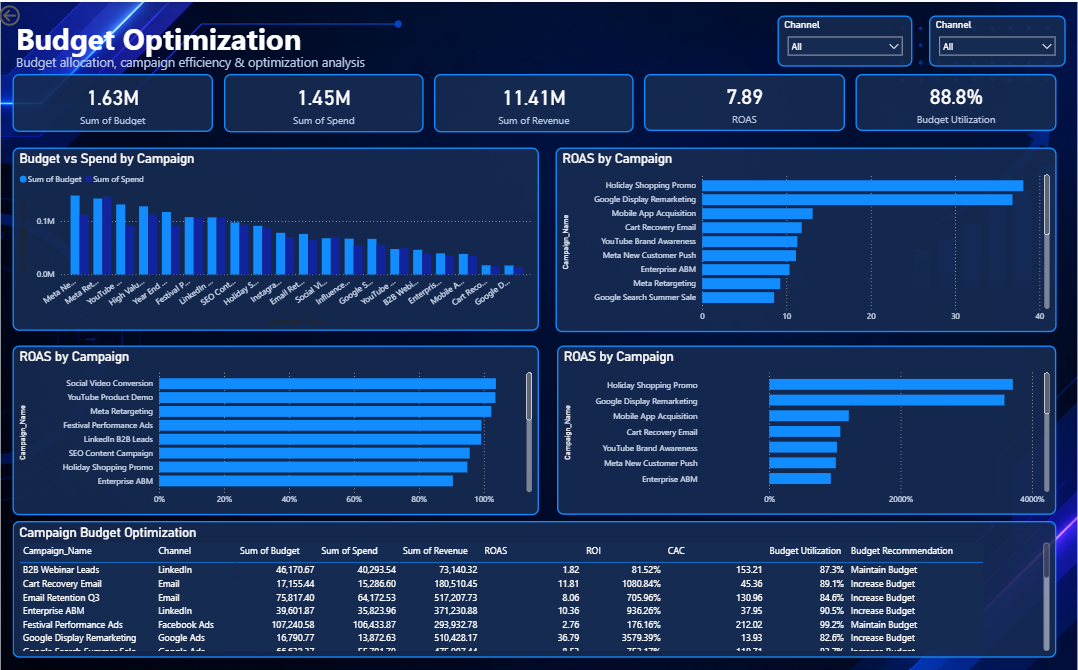

The page's visual inventory and layout, read from the dashboard file:
{"tool":"powerbi","page":{"name":"Budget Optimization","canvas":[1600,1000],"ordinal":4},"visuals":[{"type":"textbox","box":[24.3,19.9,452.9,75.1],"z":0},{"type":"textbox","box":[25,70,556.7,59.6],"z":1000},{"type":"card","fields":{"Values":["Sum(campaign_performance.Budget)"]},"box":[25,105,295,85],"z":2000},{"type":"card","fields":{"Values":["Sum(campaign_performance.Spend)"]},"box":[335,105,293.8,86.2],"z":3000},{"type":"card","fields":{"Values":["campaign_performance.Budget Utilization"]},"box":[1265,105,296,83.9],"z":4000},{"type":"card","fields":{"Values":["Sum(campaign_performance.Revenue)"]},"box":[645,105,293.8,86.2],"z":5000},{"type":"card","fields":{"Values":["campaign_performance.ROAS"]},"box":[955,105,296,83.9],"z":6000},{"type":"clusteredColumnChart","title":"Budget vs Spend by Campaign","fields":{"Category":["campaign_performance.Campaign_Name"],"Y":["Sum(campaign_performance.Budget)","Sum(campaign_performance.Spend)"]},"box":[25,215,775,270],"z":7000},{"type":"clusteredBarChart","title":"ROAS by Campaign","fields":{"Category":["campaign_performance.Campaign_Name"],"Y":["campaign_performance.ROAS"]},"box":[824,214.3,737.9,271.7],"z":8000},{"type":"clusteredBarChart","title":"ROAS by Campaign","fields":{"Category":["campaign_performance.Campaign_Name"],"Y":["campaign_performance.Budget Utilization"]},"box":[25,505,775,250],"z":9000},{"type":"clusteredBarChart","title":"ROAS by Campaign","fields":{"Category":["campaign_performance.Campaign_Name"],"Y":["campaign_performance.ROI"]},"box":[826.2,505.9,735.7,249.6],"z":10000},{"type":"tableEx","title":"Campaign Budget Optimization","fields":{"Values":["campaign_performance.Campaign_Name","campaign_performance.Channel","Sum(campaign_performance.Budget)","Sum(campaign_performance.Spend)","Sum(campaign_performance.Revenue)","campaign_performance.ROAS","campaign_performance.ROI","campaign_performance.CAC","campaign_performance.Budget Utilization","campaign_performance.Budget Recommendation"]},"box":[24.3,764.4,1537.6,201],"z":11000},{"type":"actionButton","box":[0,0,100,40],"z":12000},{"type":"slicer","title":"Channel","fields":{"Values":["campaign_performance.Channel"]},"box":[1151,19.9,198.8,75.1],"z":13000},{"type":"slicer","title":"Channel","fields":{"Values":["campaign_performance.Campaign_Type"]},"box":[1374.1,19.9,201,75.1],"z":14000}]}

Visuals, with their boxes in screenshot pixels (x1, y1, x2, y2), scaled from the page's 1600x1000 canvas onto the 1078x670 screenshot:
textbox: 16:13:322:64
textbox: 17:47:392:87
card - Sum(campaign_performance.Budget): 17:70:216:127
card - Sum(campaign_performance.Spend): 226:70:424:128
card - campaign_performance.Budget Utilization: 852:70:1052:127
card - Sum(campaign_performance.Revenue): 435:70:633:128
card - campaign_performance.ROAS: 643:70:843:127
"Budget vs Spend by Campaign" clusteredColumnChart: 17:144:539:325
"ROAS by Campaign" clusteredBarChart: 555:144:1052:326
"ROAS by Campaign" clusteredBarChart: 17:338:539:506
"ROAS by Campaign" clusteredBarChart: 557:339:1052:506
"Campaign Budget Optimization" tableEx: 16:512:1052:647
actionButton: 0:0:67:27
"Channel" slicer: 775:13:909:64
"Channel" slicer: 926:13:1061:64
